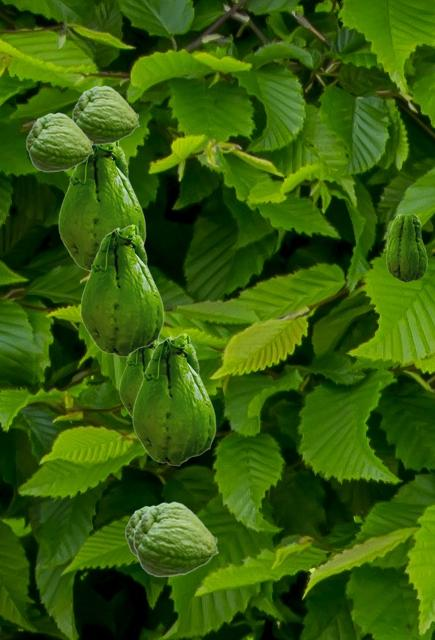sayote: (58, 141, 145, 271), (132, 333, 215, 465), (80, 224, 163, 356), (133, 501, 218, 576), (72, 85, 139, 144), (26, 112, 93, 171), (119, 341, 159, 417), (386, 213, 426, 281), (125, 505, 154, 556)
